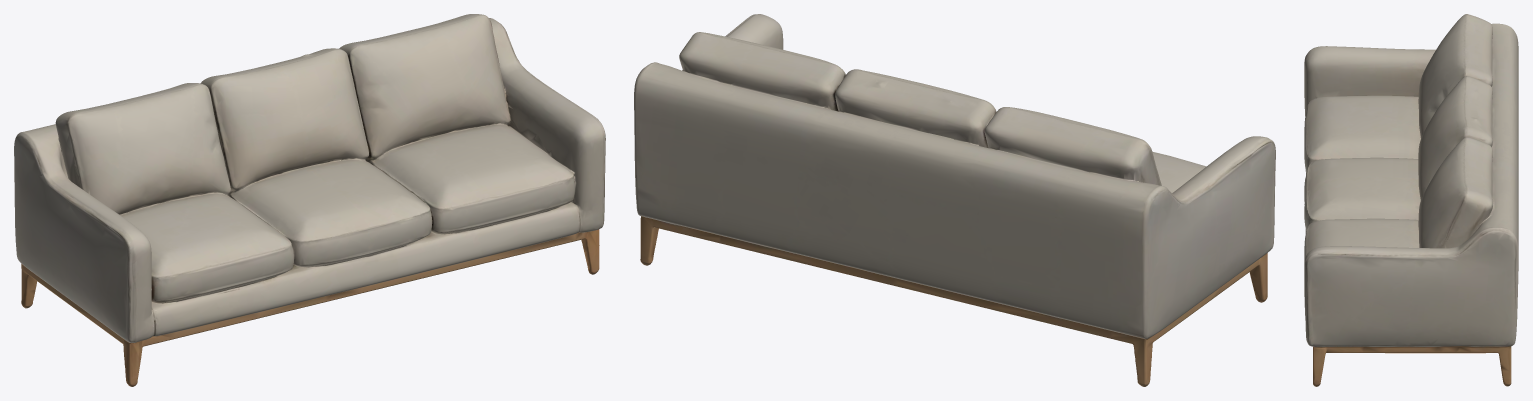
The model's file is sofa_3.c0accdb8.glb.
3 views of the same model, side by side, from view 1: azimuth 30°, elevation 25°; view 2: azimuth 150°, elevation 25°; view 3: azimuth 270°, elevation 25° (orthographic). The views are drawn at different scales.
Visible parts, largest first — view 1: tripo_node_d3589f28-9b49-4140-8552-c48d30015914; view 2: tripo_node_d3589f28-9b49-4140-8552-c48d30015914; view 3: tripo_node_d3589f28-9b49-4140-8552-c48d30015914.
Part boxes in pixels (bbox=[...]): tripo_node_d3589f28-9b49-4140-8552-c48d30015914: bbox=[14, 14, 605, 386]; tripo_node_d3589f28-9b49-4140-8552-c48d30015914: bbox=[634, 14, 1275, 386]; tripo_node_d3589f28-9b49-4140-8552-c48d30015914: bbox=[1304, 14, 1518, 386].
Size of the model in its own units: 2.1 by 0.85 by 0.9.
Materials: 1 (1 with a texture image).
